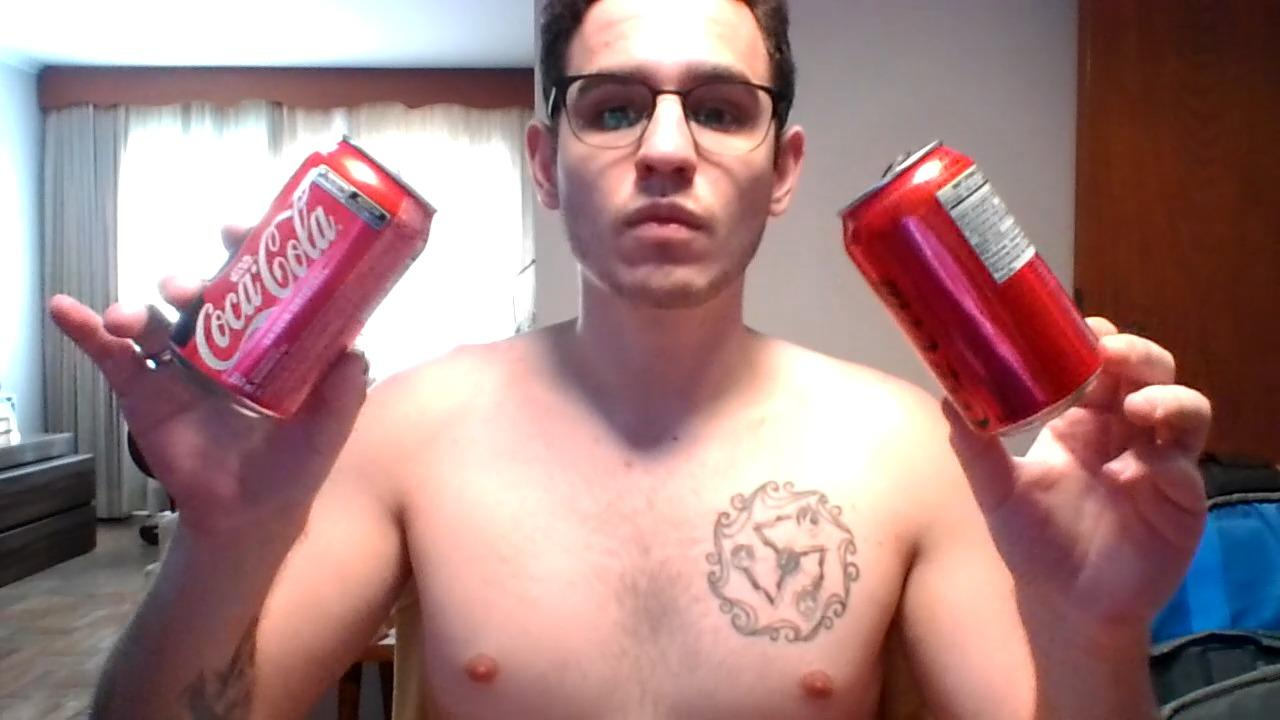coke: (835, 141, 1105, 443), (161, 139, 436, 421)
